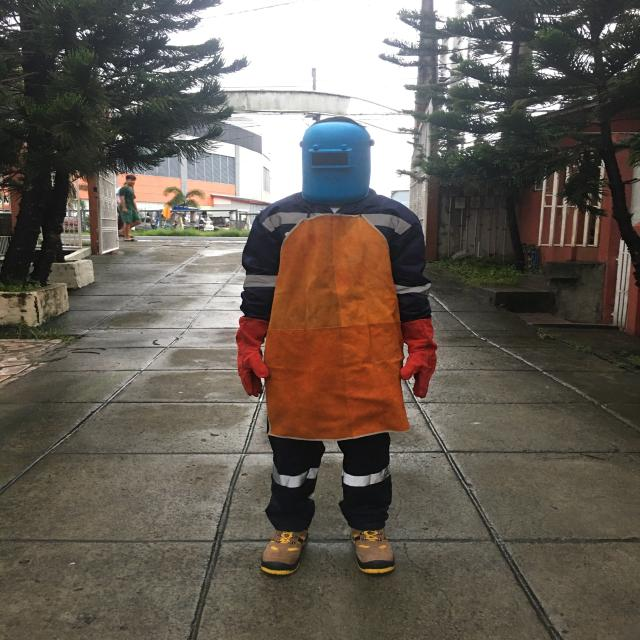with_helmet: (301, 121, 371, 205)
